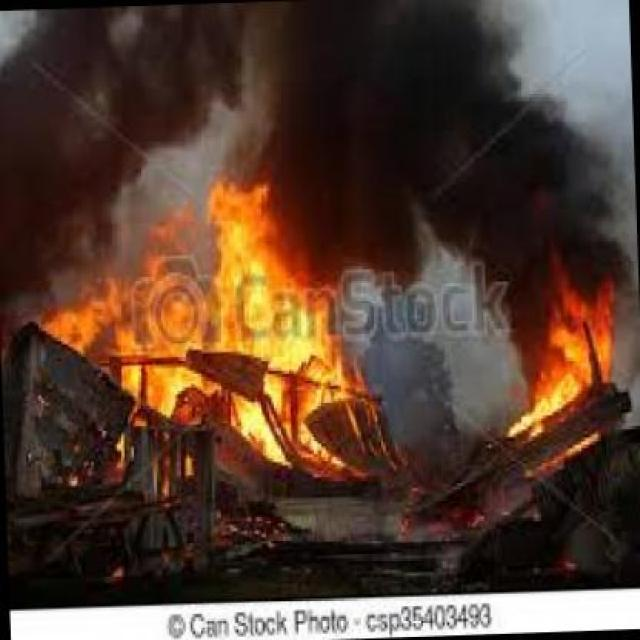Fire: (194, 178, 360, 462), (46, 262, 198, 415), (516, 277, 633, 413)
Smoke: (264, 0, 453, 263), (0, 8, 193, 265), (466, 22, 638, 288)
